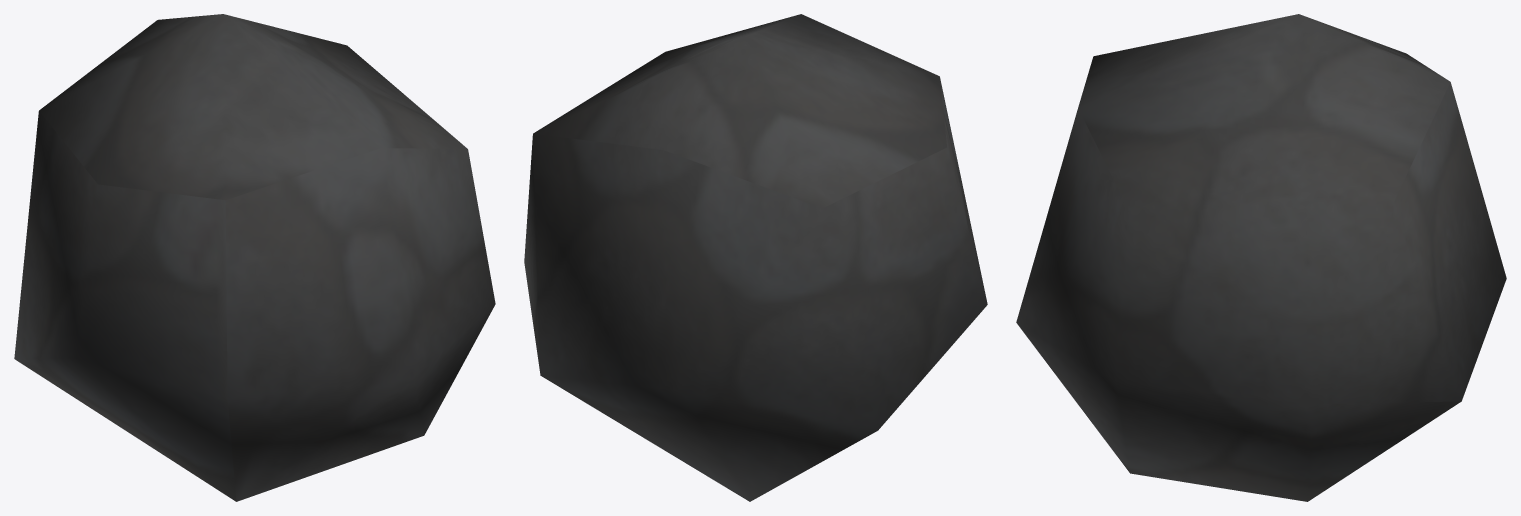
File: Boulder.glb
3 views of the same model, side by side, from view 1: azimuth 30°, elevation 25°; view 2: azimuth 150°, elevation 25°; view 3: azimuth 270°, elevation 25° (orthographic). The views are drawn at different scales.
Parts seen in each view (by area): view 1: Cube; view 2: Cube; view 3: Cube.
Boxes of the visible parts, <box> form: Cube: <box>14,14,495,501</box>; Cube: <box>524,14,987,501</box>; Cube: <box>1016,14,1506,501</box>.
Size of the model in its own units: 3.11 by 3.16 by 3.12.
Materials: 1 (1 with a texture image).
